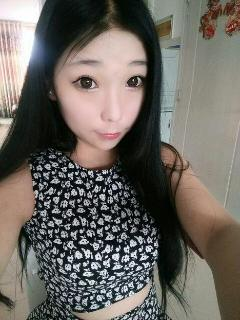vest: (23, 143, 172, 319)
